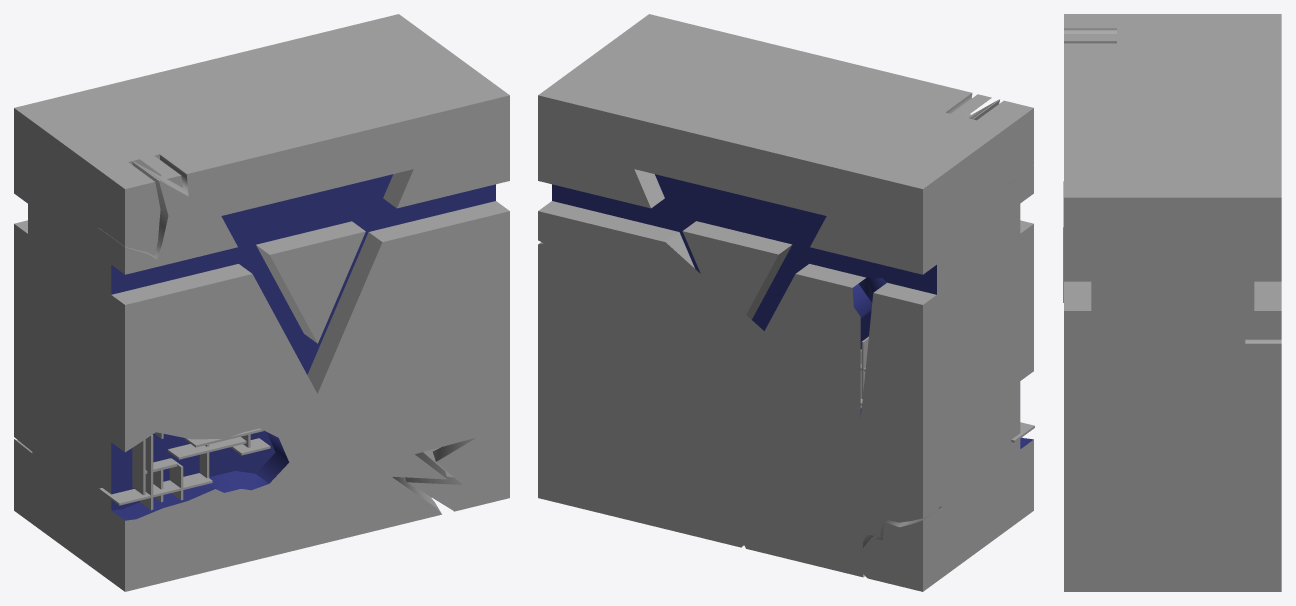
Rendered from b_wallsymcracks_tutorial_4x4x2.fbx.
The picture shows the model from 3 angles, left to right: view 1: azimuth 30°, elevation 25°; view 2: azimuth 150°, elevation 25°; view 3: azimuth 270°, elevation 25°; orthographic projection. The views are drawn at different scales.
Visible parts, largest first — view 1: polySurface2, glow_tri_2, glow_pipe_2; view 2: polySurface2, glow_tri; view 3: polySurface2.
Boxes of the visible parts, <box> form: polySurface2: <box>14,14,509,591</box>; glow_tri_2: <box>256,221,365,343</box>; glow_pipe_2: <box>99,428,270,510</box>; polySurface2: <box>538,14,1033,591</box>; glow_tri: <box>682,221,792,319</box>; polySurface2: <box>1064,14,1281,591</box>.
Size of the model in its own units: 4.03 by 4 by 2.01.
